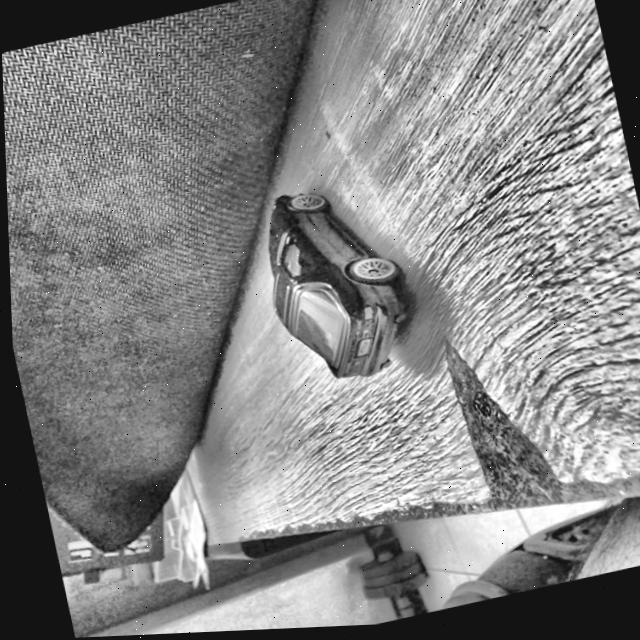car: (246, 173, 421, 397)
